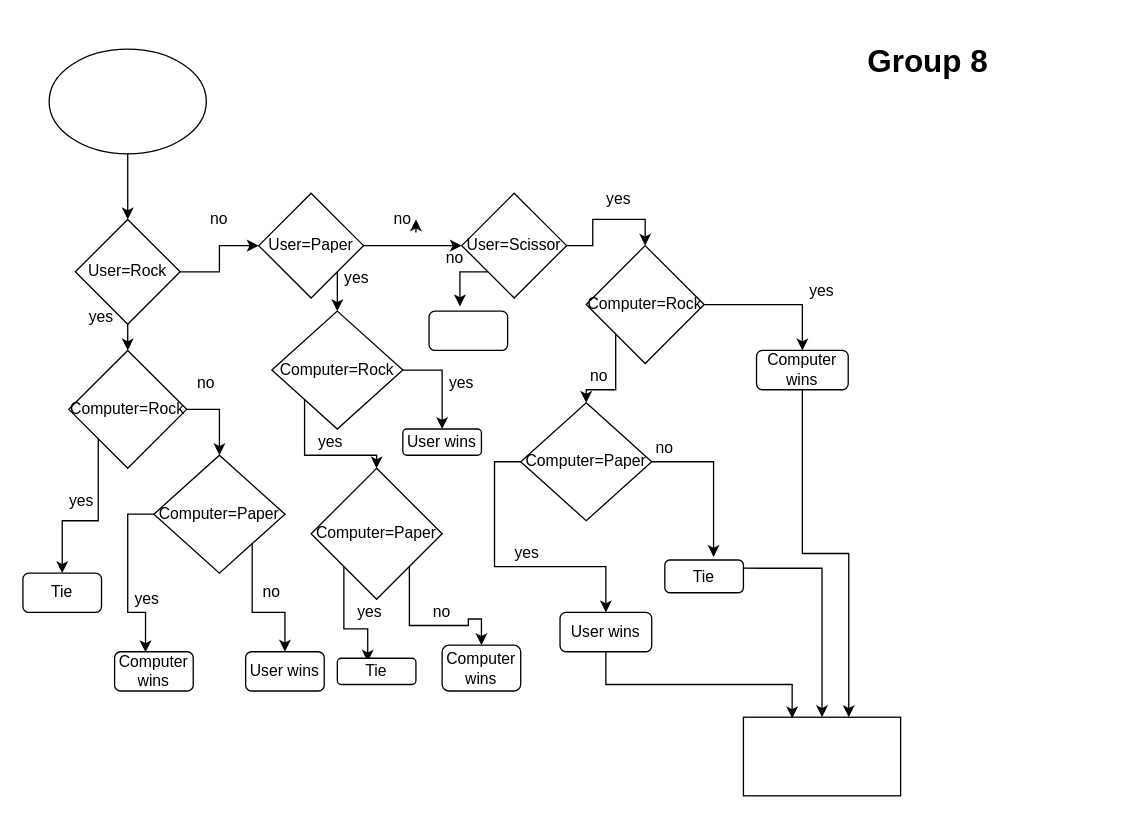
The diagram is 1133 pixels wide and 819 high, and some of its shapes have lost their labels. The shapes that lost their labels are listed below. From the top down, each one's centre as x and y in pixels, then its label:
point (127, 101): Start
point (468, 330): no selection
point (821, 756): End
